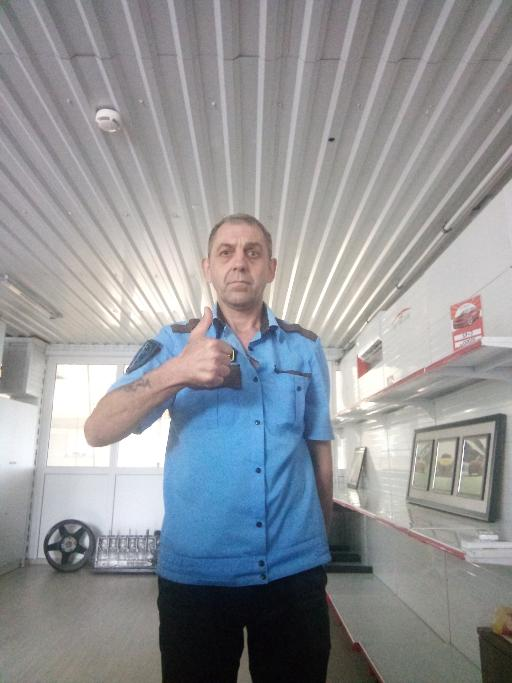like: (180, 304, 235, 392)
